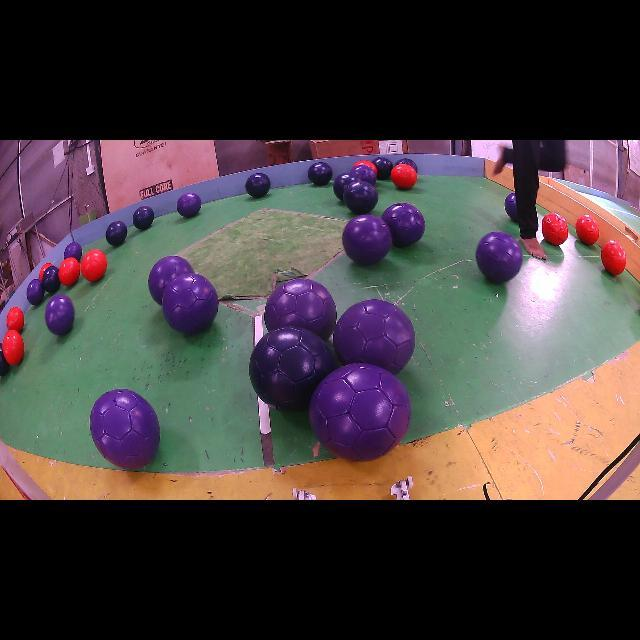B: (249, 326, 335, 411), (342, 181, 379, 215), (332, 172, 360, 200), (245, 172, 270, 198), (308, 162, 332, 186), (106, 221, 128, 246), (132, 206, 154, 230), (42, 265, 60, 294), (372, 158, 394, 180), (0, 342, 10, 376), (395, 158, 418, 172)
P: (310, 364, 411, 461), (332, 299, 415, 374), (90, 389, 160, 470), (264, 279, 336, 340), (161, 272, 219, 334), (342, 215, 392, 265), (476, 231, 522, 282), (149, 256, 194, 305), (381, 202, 425, 248), (45, 294, 75, 335), (176, 192, 201, 218), (350, 165, 376, 185), (26, 279, 45, 305), (505, 192, 519, 222), (64, 242, 82, 261)
R: (541, 212, 569, 245), (601, 240, 626, 275), (81, 249, 108, 281), (2, 330, 24, 365), (575, 215, 599, 245), (390, 164, 418, 189), (59, 258, 80, 286), (6, 306, 24, 332), (354, 160, 378, 175), (39, 262, 54, 281)
